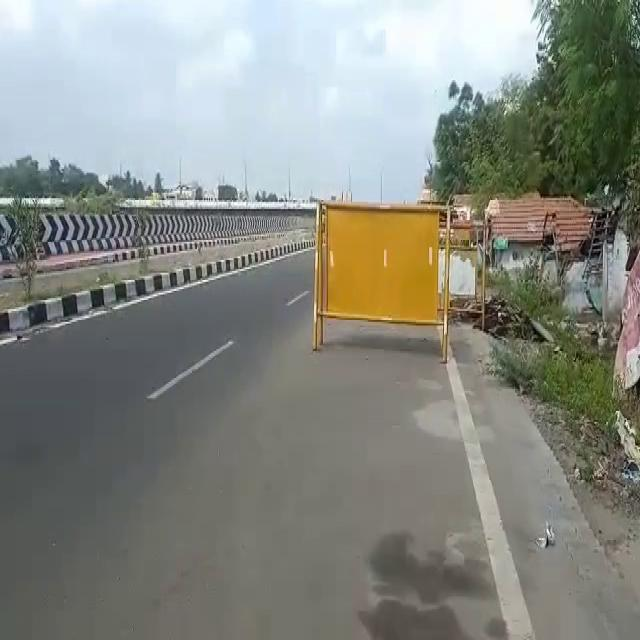fallen_object: (295, 155, 474, 377)
